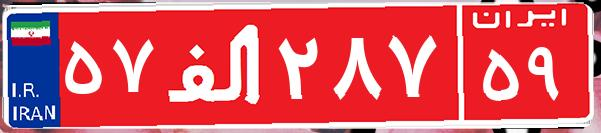2: (273, 28, 330, 110)
5: (57, 26, 110, 107), (475, 38, 525, 113)
7: (385, 28, 445, 110), (110, 28, 158, 105)
8: (330, 28, 385, 110)
9: (525, 38, 570, 115)
الف: (158, 15, 273, 115)
